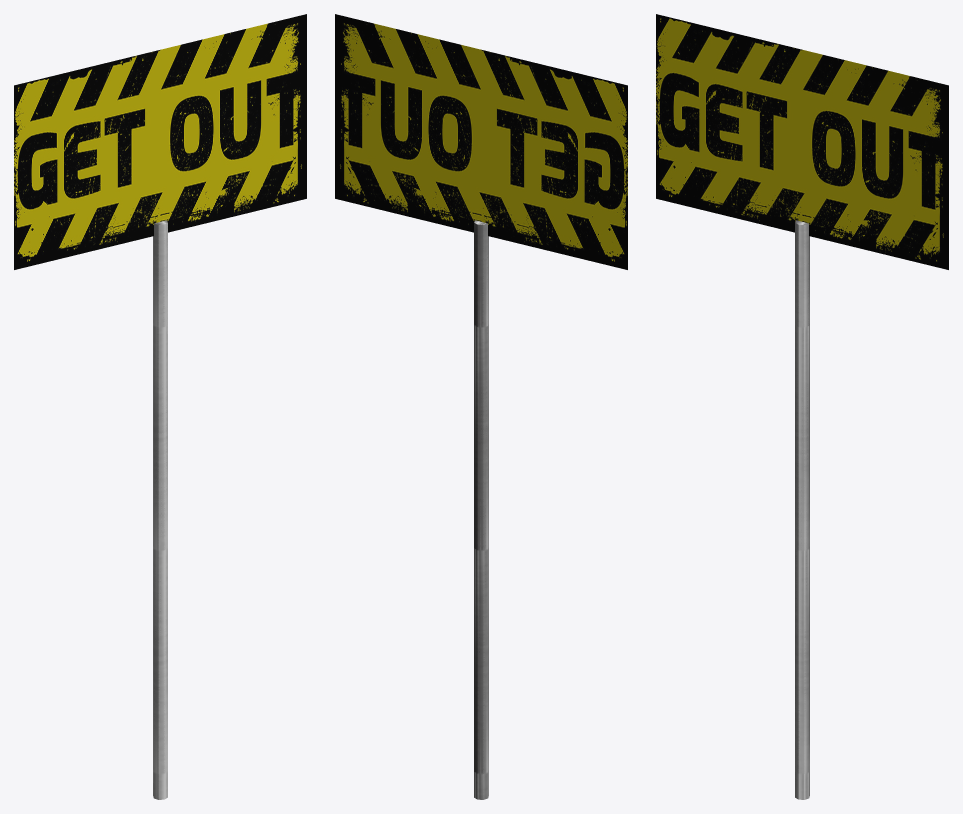
Rendered from getout.gltf.
3 renders of one model, left to right at view 1: azimuth 30°, elevation 25°; view 2: azimuth 150°, elevation 25°; view 3: azimuth 330°, elevation 25°, orthographic.
Parts seen in each view (by area): view 1: pPlane4; view 2: pPlane4; view 3: pPlane4.
Part boxes in pixels (bbox=[...]): pPlane4: bbox=[14, 14, 306, 799]; pPlane4: bbox=[335, 14, 627, 799]; pPlane4: bbox=[656, 14, 948, 799].
Size of the model in its own units: 0.1368 by 0.3333 by 0.00615.
2 materials, 2 textured.
